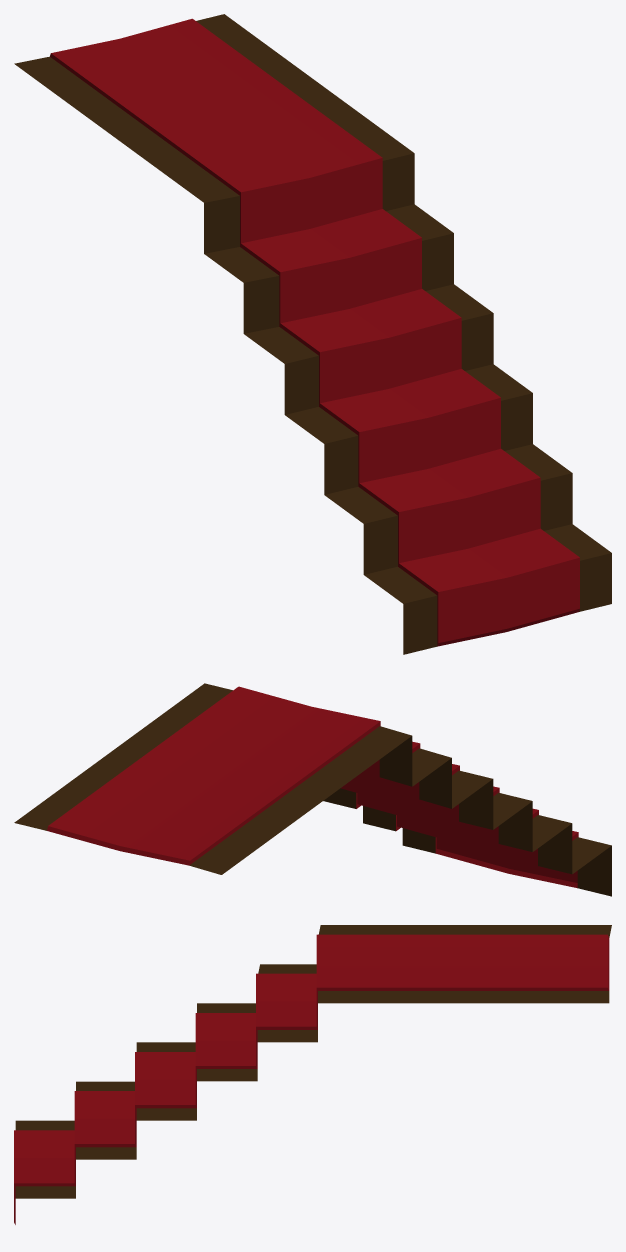
File: stairs_big.FBX
3 views of the same model, one above another, from view 1: azimuth 30°, elevation 25°; view 2: azimuth 150°, elevation 25°; view 3: azimuth 270°, elevation 25° (orthographic). The views are drawn at different scales.
Parts seen in each view (by area): view 1: Box001; view 2: Box001; view 3: Box001.
Part boxes in pixels (<box>): Box001: <box>14,14,611,654</box>; Box001: <box>14,683,611,896</box>; Box001: <box>14,925,611,1224</box>.
Size of the model in its own units: 155 by 222 by 502.
1 material, 1 textured.
